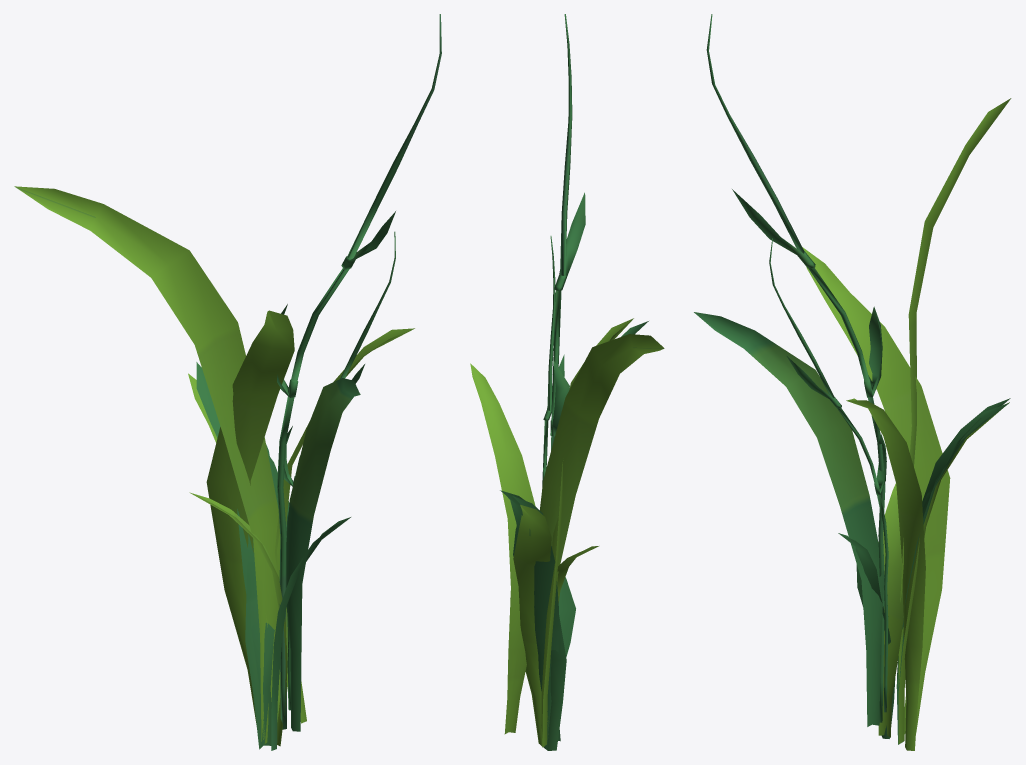
The model's file is grass.glb.
3 renders of one model, left to right at view 1: azimuth 30°, elevation 25°; view 2: azimuth 150°, elevation 25°; view 3: azimuth 270°, elevation 25°, orthographic. The views are drawn at different scales.
Visible parts, largest first — view 1: grass.005, grass.001, grass.003, grass.004, grass.006, grass.002; view 2: grass.005, grass.001, grass.006, grass.004, grass.003, grass.002; view 3: grass.005, grass.001, grass.004, grass.006, grass.003, grass.002.
Part boxes in pixels (x1,y1,x2,y2): grass.005: [14, 186, 395, 741]; grass.001: [206, 310, 414, 724]; grass.003: [196, 362, 350, 750]; grass.004: [277, 14, 441, 729]; grass.006: [188, 373, 287, 746]; grass.002: [237, 444, 278, 746]; grass.005: [539, 236, 664, 734]; grass.001: [470, 318, 633, 747]; grass.006: [510, 504, 598, 746]; grass.004: [550, 14, 585, 450]; grass.003: [512, 496, 575, 750]; grass.002: [500, 490, 558, 748]; grass.005: [694, 98, 1011, 726]; grass.001: [802, 247, 950, 750]; grass.004: [706, 14, 885, 722]; grass.006: [878, 402, 1009, 743]; grass.003: [838, 398, 1010, 744]; grass.002: [898, 402, 1009, 743].
Size of the model in its own units: 1.4 by 3.31 by 1.25.
1 material, 1 textured.
